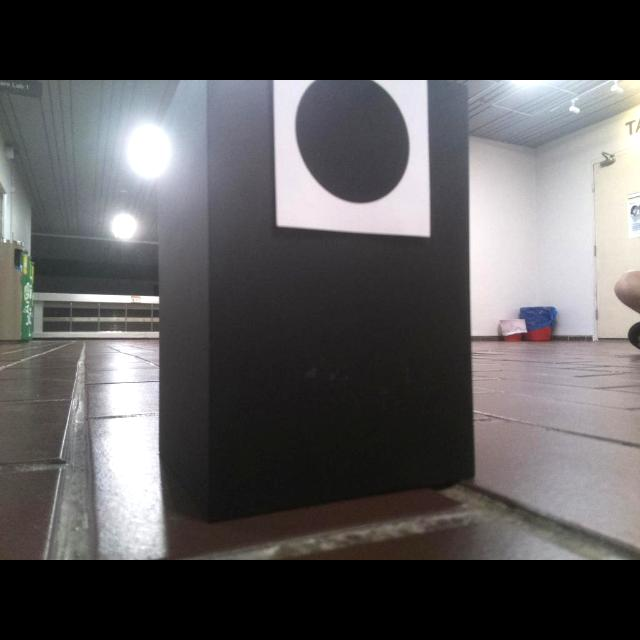CIRCLE: (293, 80, 414, 206)
